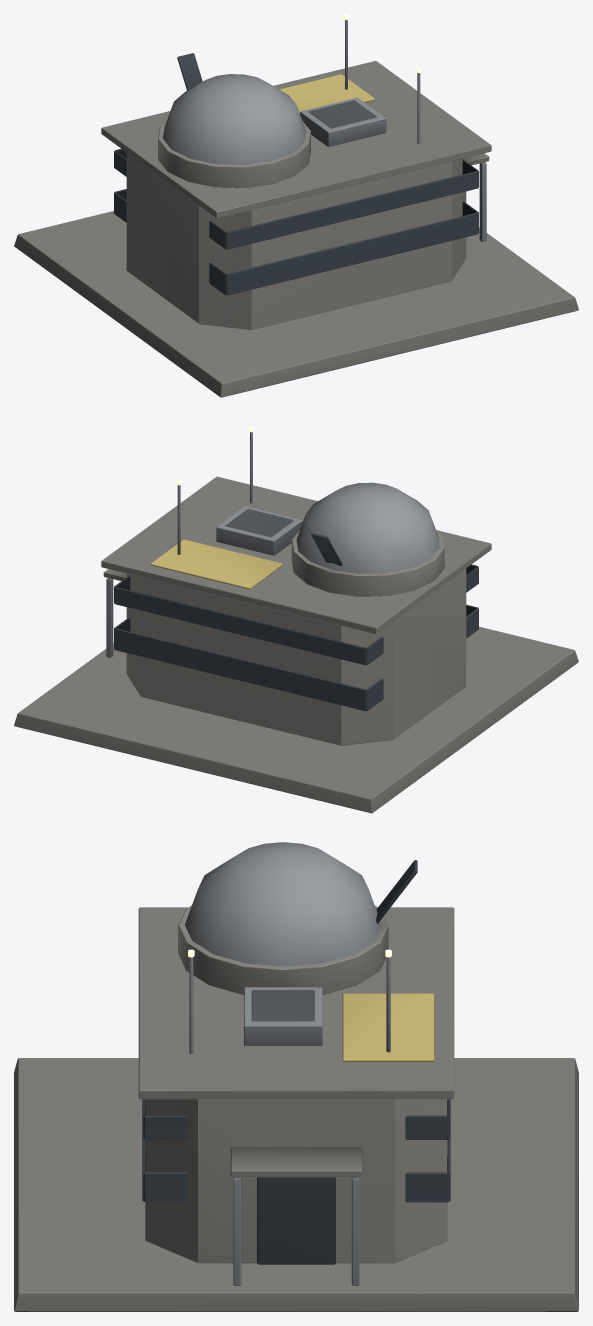
The model's file is tech_center.glb.
The picture shows the model from 3 angles, top to bottom: view 1: azimuth 30°, elevation 25°; view 2: azimuth 150°, elevation 25°; view 3: azimuth 270°, elevation 25°; orthographic projection. The views are drawn at different scales.
Visible parts, largest first — view 1: Body; view 2: Body; view 3: Body.
Boxes of the visible parts, <box> form: Body: <box>14,14,578,397</box>; Body: <box>14,426,578,813</box>; Body: <box>14,842,578,1311</box>.
Bounding box in the file's own units: 8.59 × 5 × 8.59.
